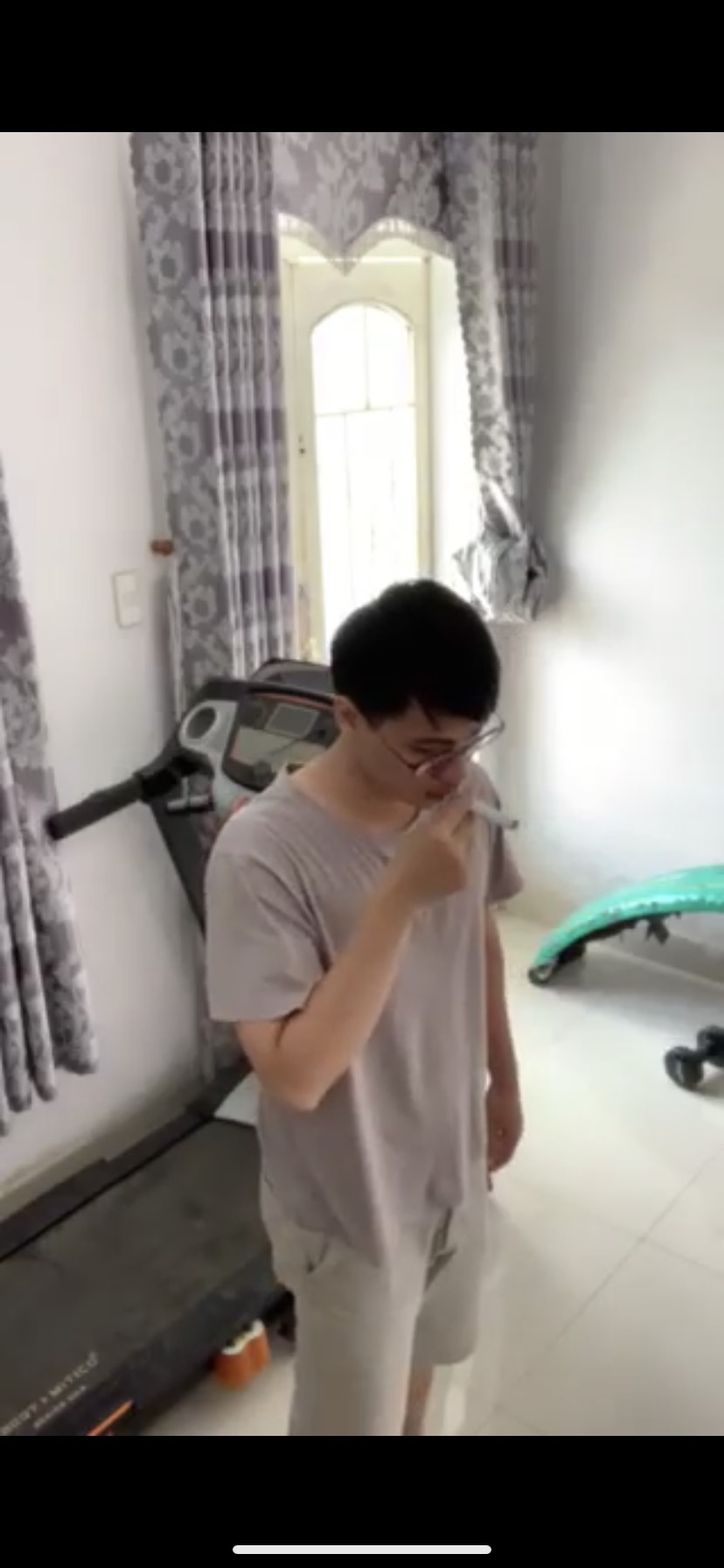cigarette: (461, 778, 519, 835)
person: (181, 555, 573, 1432)
